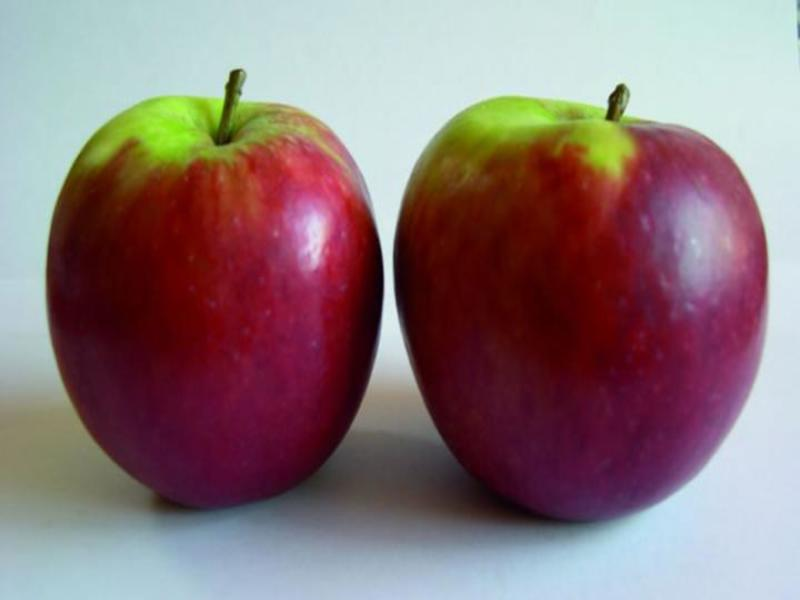apple: (391, 72, 772, 534), (50, 68, 376, 512)
